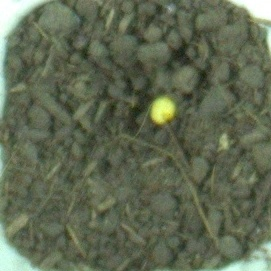chilli seed: (147, 94, 178, 127)
